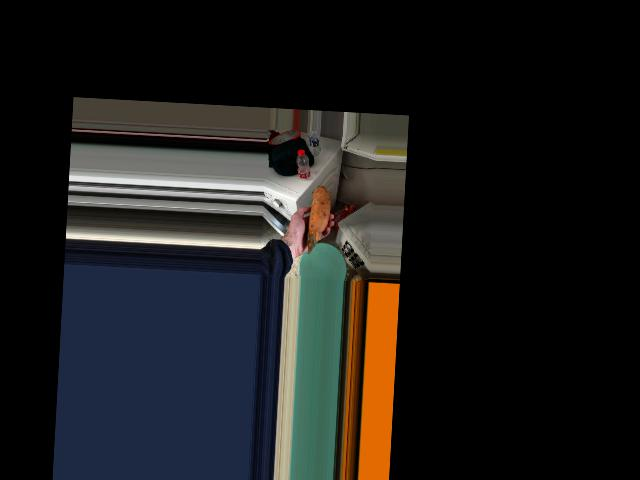sweet_potato: (310, 187, 334, 262)
